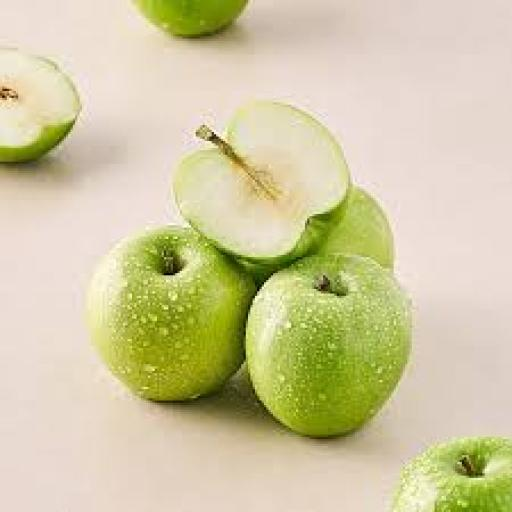Apple: (246, 255, 411, 436), (87, 228, 254, 400), (176, 103, 350, 266), (0, 48, 79, 161), (394, 437, 511, 511), (317, 187, 393, 268)
